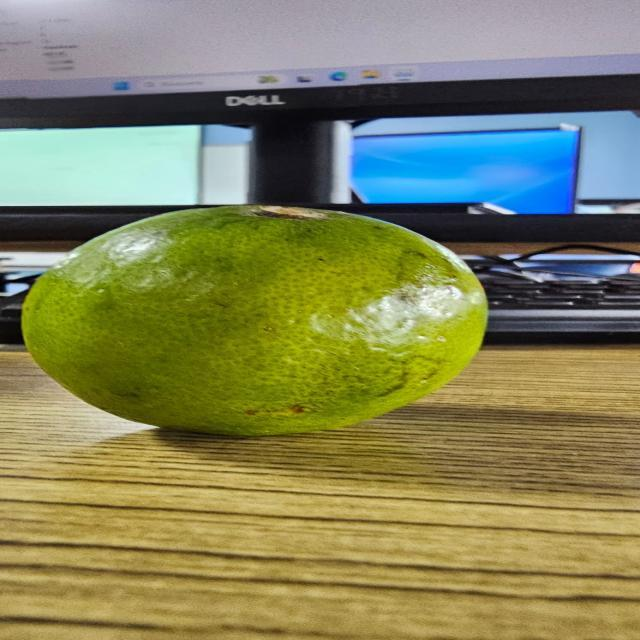Lemon: (19, 203, 493, 439)
